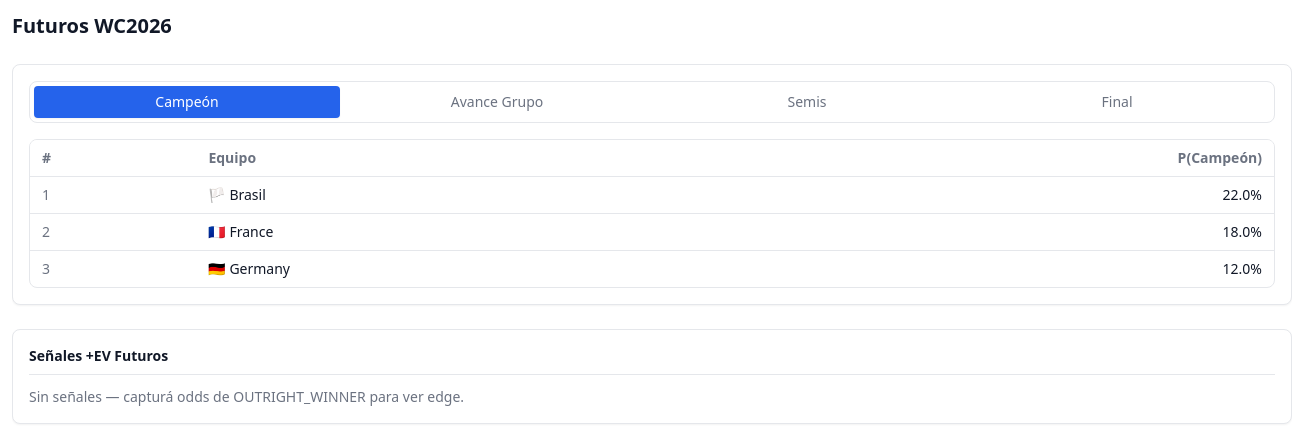
FuturesDashboard › FD2: tab Advance Group muestra equipos con p_advance_group
Expected: the text "Brasil" is shown, [229,185,266,205]
Note: Hacer click en tab "Avance Grupo"
Step 1. Click the tab "Avance Grupo" → (497, 102), box [344,86,650,118]
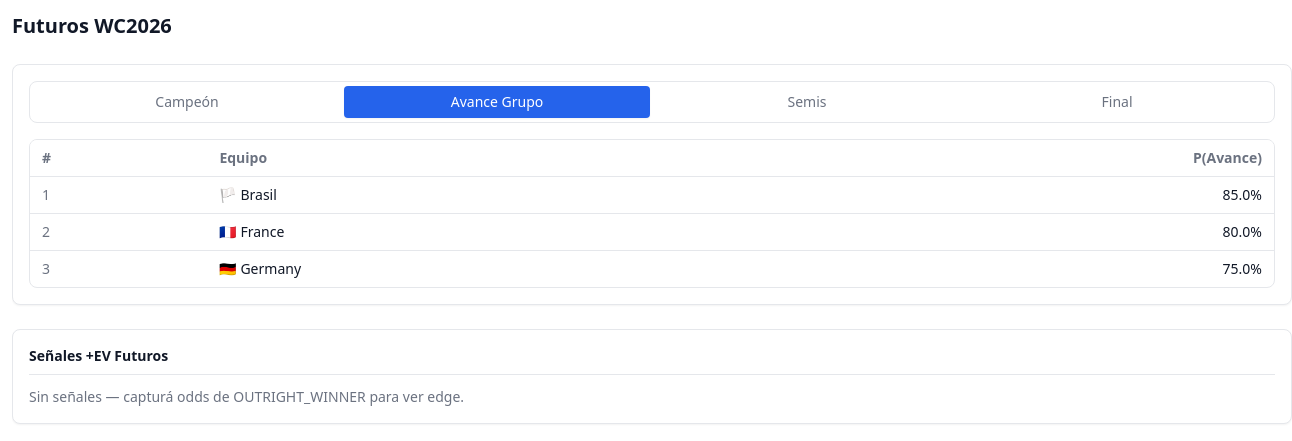
Expected: the text "85.0%" is shown, [774,176,1274,214]
